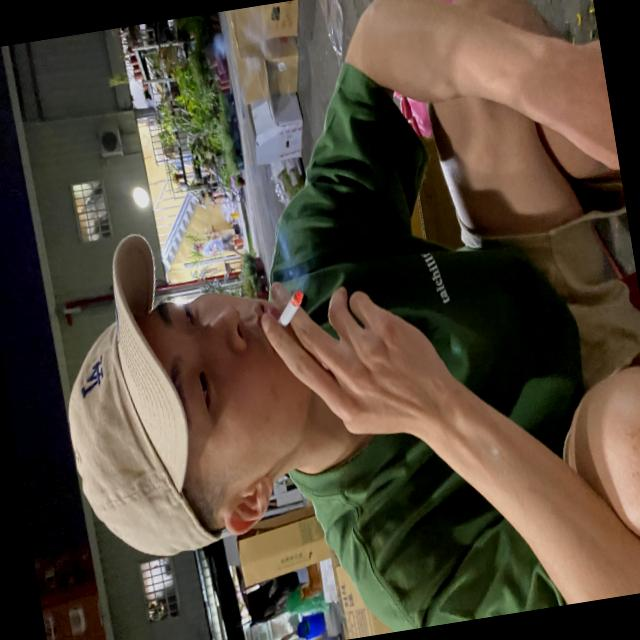smoke: (268, 282, 318, 343)
